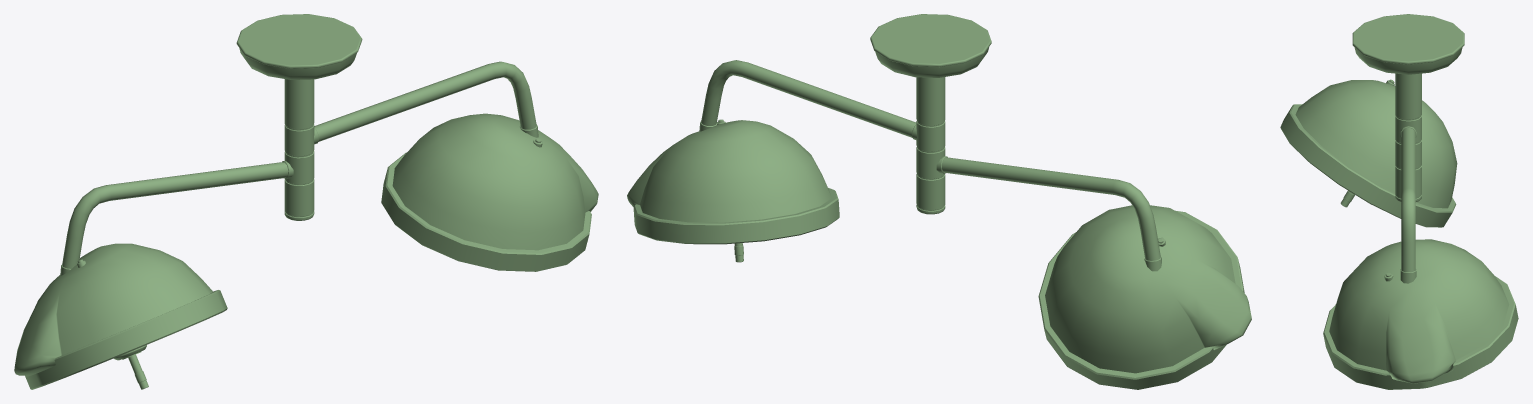
The model's file is OverheadLights.fbx.
3 renders of one model, left to right at view 1: azimuth 30°, elevation 25°; view 2: azimuth 150°, elevation 25°; view 3: azimuth 270°, elevation 25°, orthographic. The views are drawn at different scales.
Visible parts, largest first — view 1: Furniture_OverheadLights_01:Furniture; view 2: Furniture_OverheadLights_01:Furniture; view 3: Furniture_OverheadLights_01:Furniture.
Part boxes in pixels (<box>): Furniture_OverheadLights_01:Furniture: <box>14,14,598,389</box>; Furniture_OverheadLights_01:Furniture: <box>627,14,1251,389</box>; Furniture_OverheadLights_01:Furniture: <box>1280,14,1518,389</box>.
Bounding box in the file's own units: 38.37 × 17.89 × 14.36.
